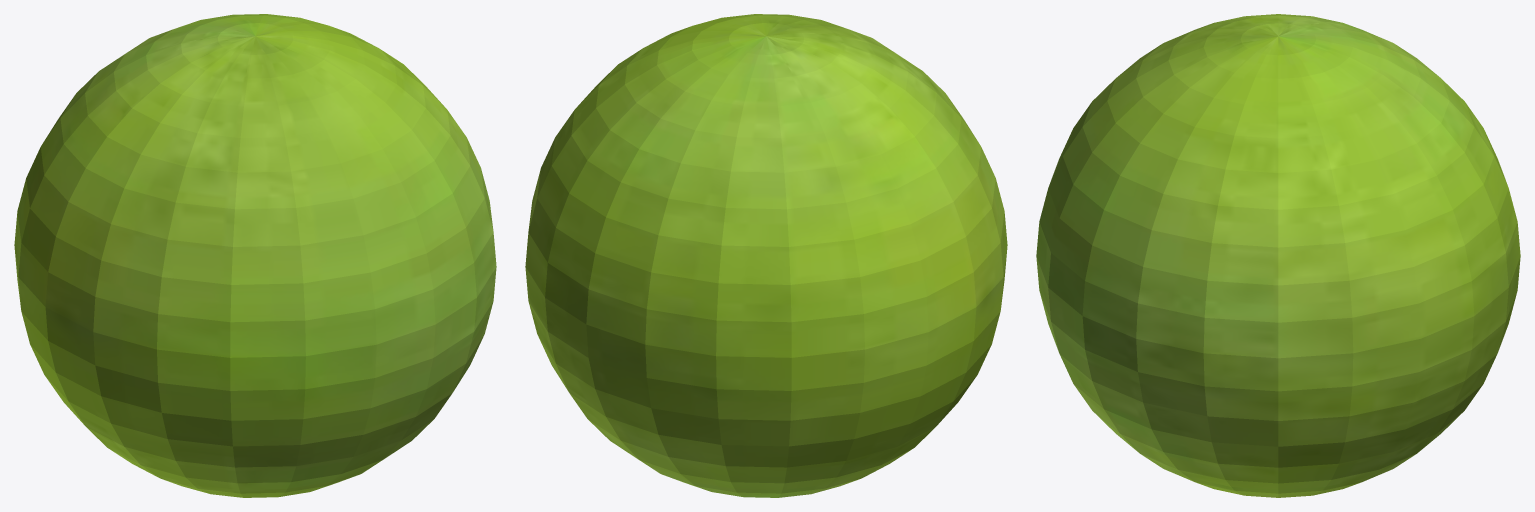
Rendered from ball.glb.
3 renders of one model, left to right at view 1: azimuth 30°, elevation 25°; view 2: azimuth 150°, elevation 25°; view 3: azimuth 270°, elevation 25°, orthographic.
Parts seen in each view (by area): view 1: Sphere; view 2: Sphere; view 3: Sphere.
Boxes of the visible parts, x1=… form: Sphere: x1=14, y1=14, x2=496, y2=497; Sphere: x1=525, y1=14, x2=1007, y2=497; Sphere: x1=1036, y1=14, x2=1520, y2=497.
Size of the model in its own units: 2 by 2 by 2.
Materials: 1 (1 with a texture image).
